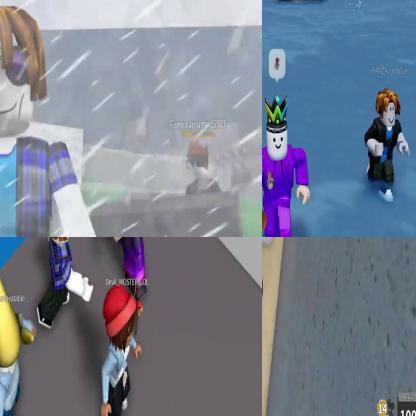Roblox-Avatar: (1, 5, 112, 237), (263, 93, 311, 237), (1, 247, 39, 416), (102, 285, 144, 416), (38, 238, 95, 331), (366, 88, 411, 203), (114, 238, 169, 301), (186, 140, 223, 196)
